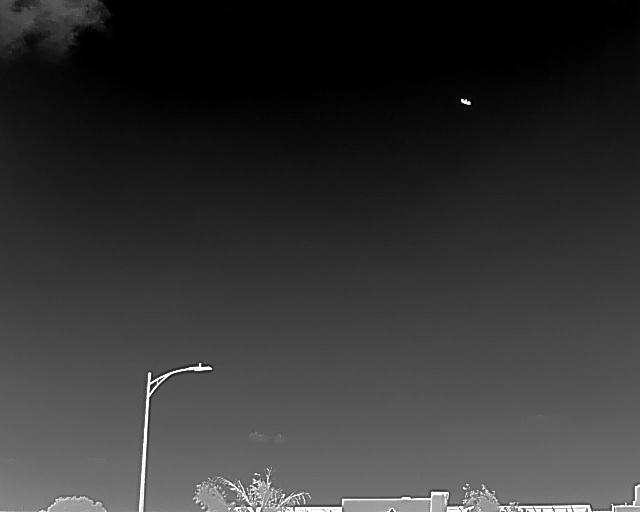fpv-drone: (460, 98, 471, 106)
